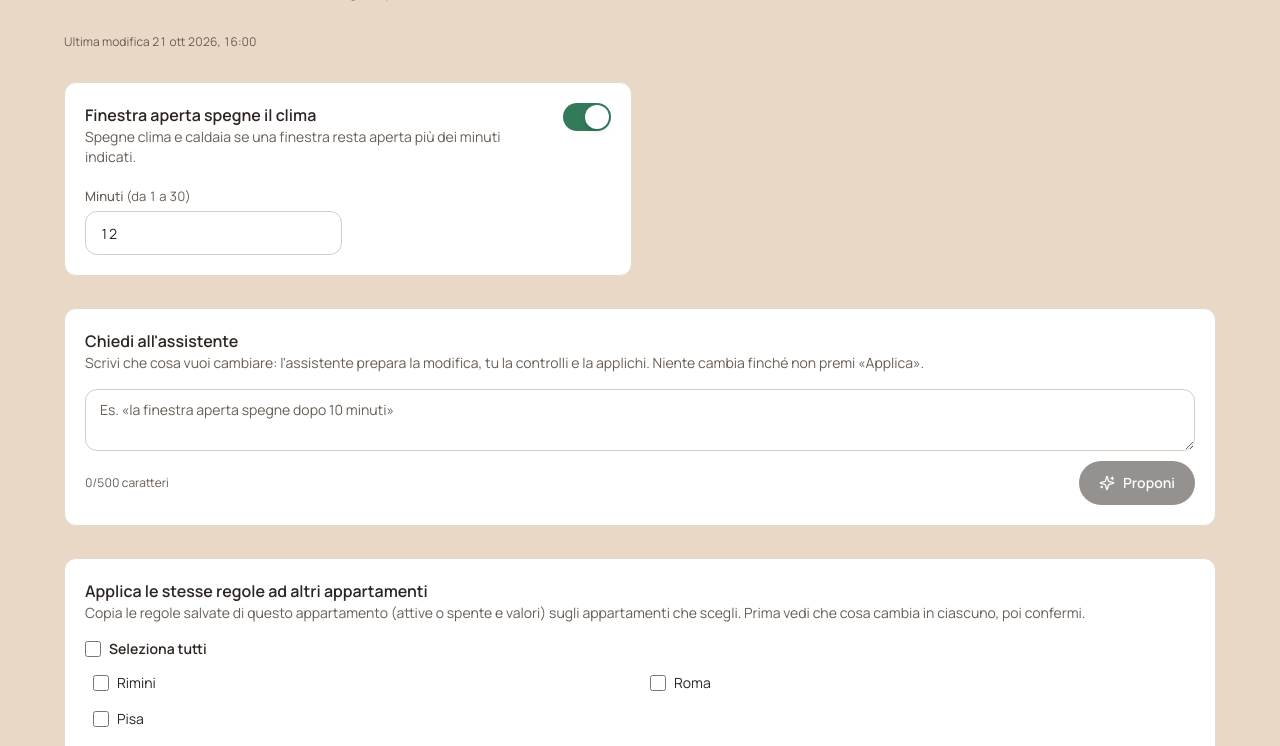
Test: Regole: copia su altri appartamenti (D-151) › regole di partenza cambiate dopo l'anteprima (409): il messaggio, si torna alla scelta
Check: the element with test id "rule-card-window_open_off" is shown, box [64, 82, 632, 276]
Click the checkbox with test id "rules-copy-target-apt-rimini-01" at (101, 683), box [93, 675, 109, 691]
(page scrolled)
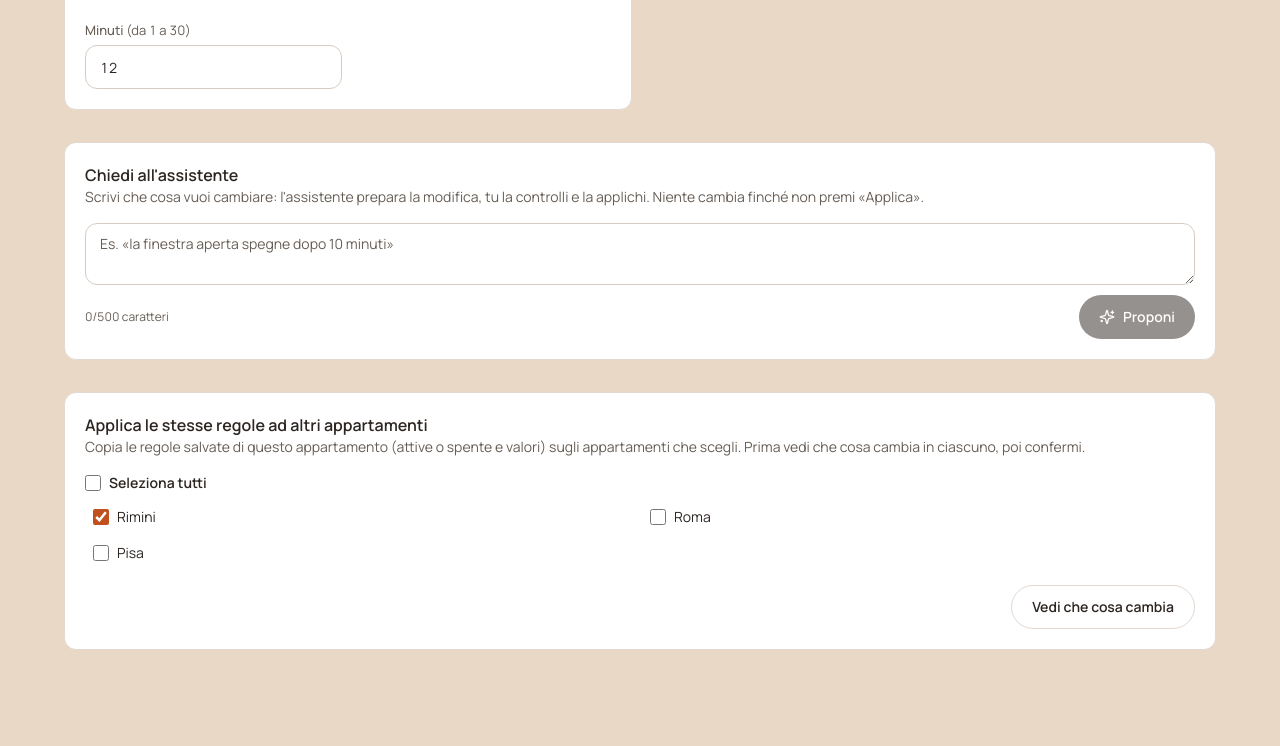
Click the button with test id "rules-copy-preview" at (1103, 607), box [1011, 585, 1195, 629]
(page scrolled)
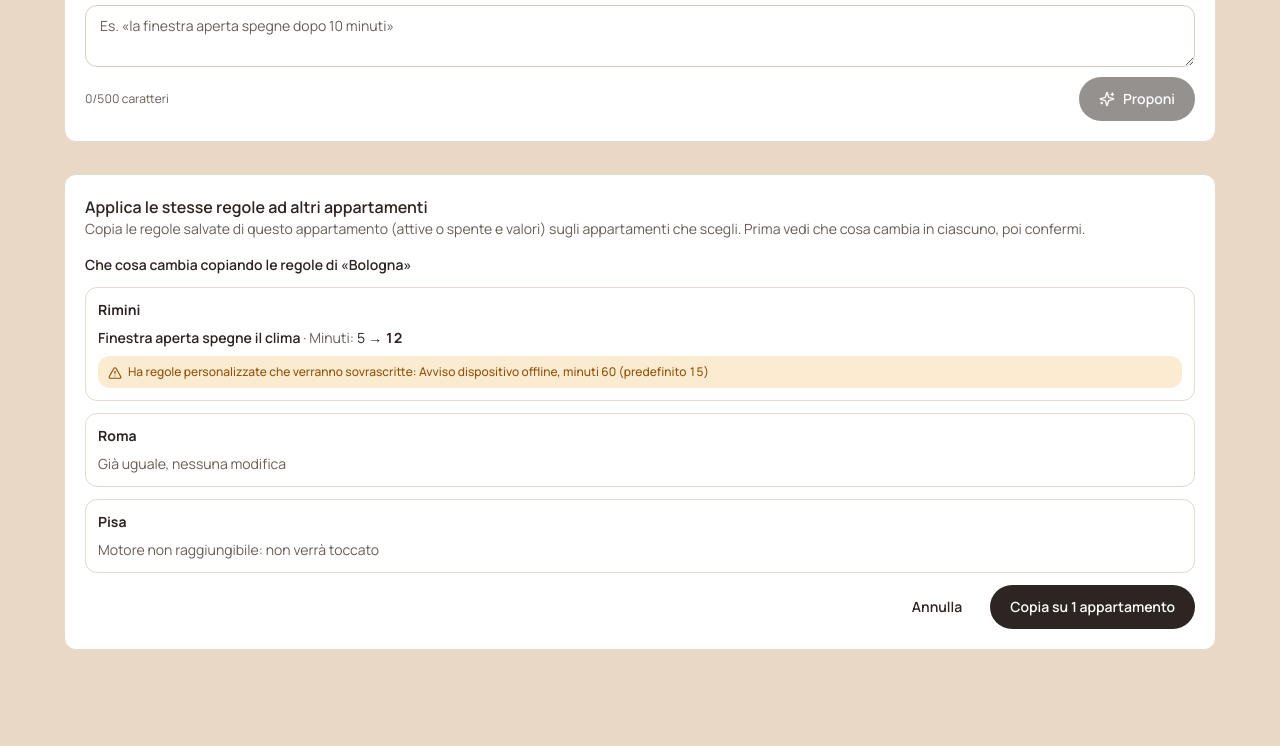
Click the button with test id "rules-copy-confirm" at (1093, 607), box [990, 585, 1195, 629]
(page scrolled)
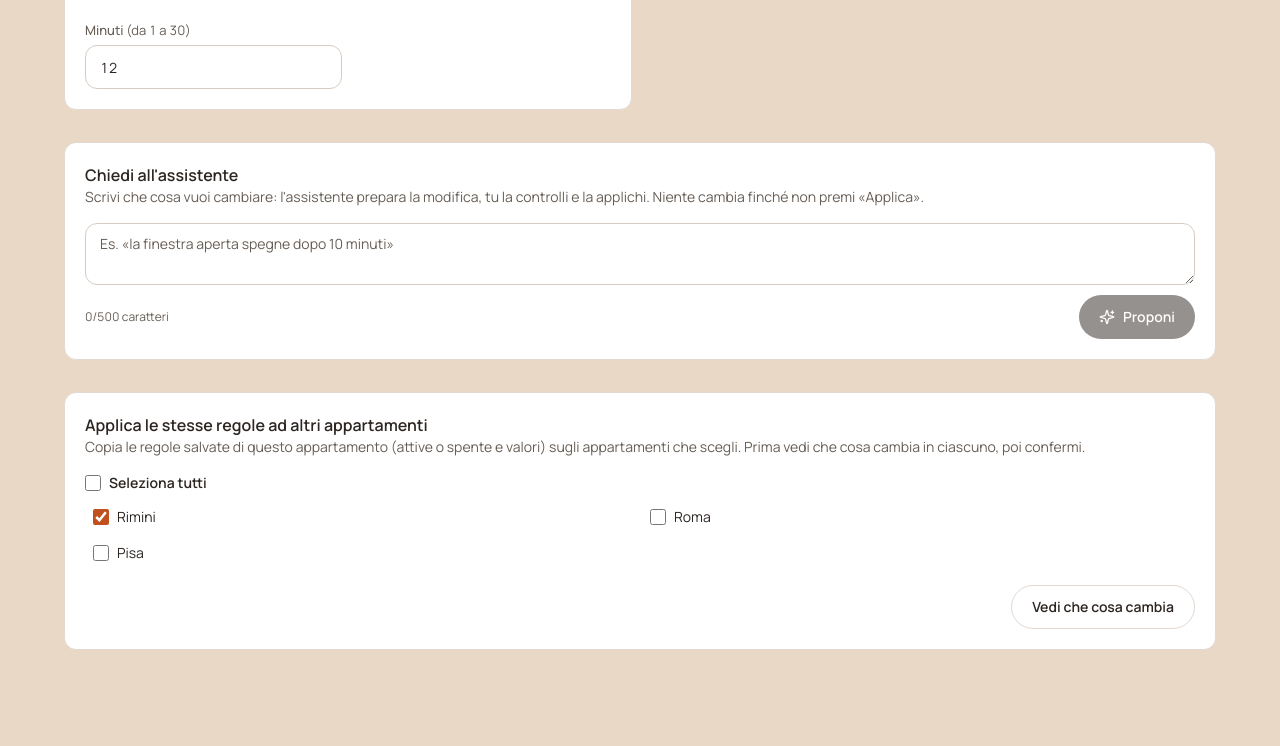
Check: the element with test id "rules-copy-preview-result" is gone
Check: the button with test id "rules-copy-preview" is shown, box [1011, 585, 1195, 629]
